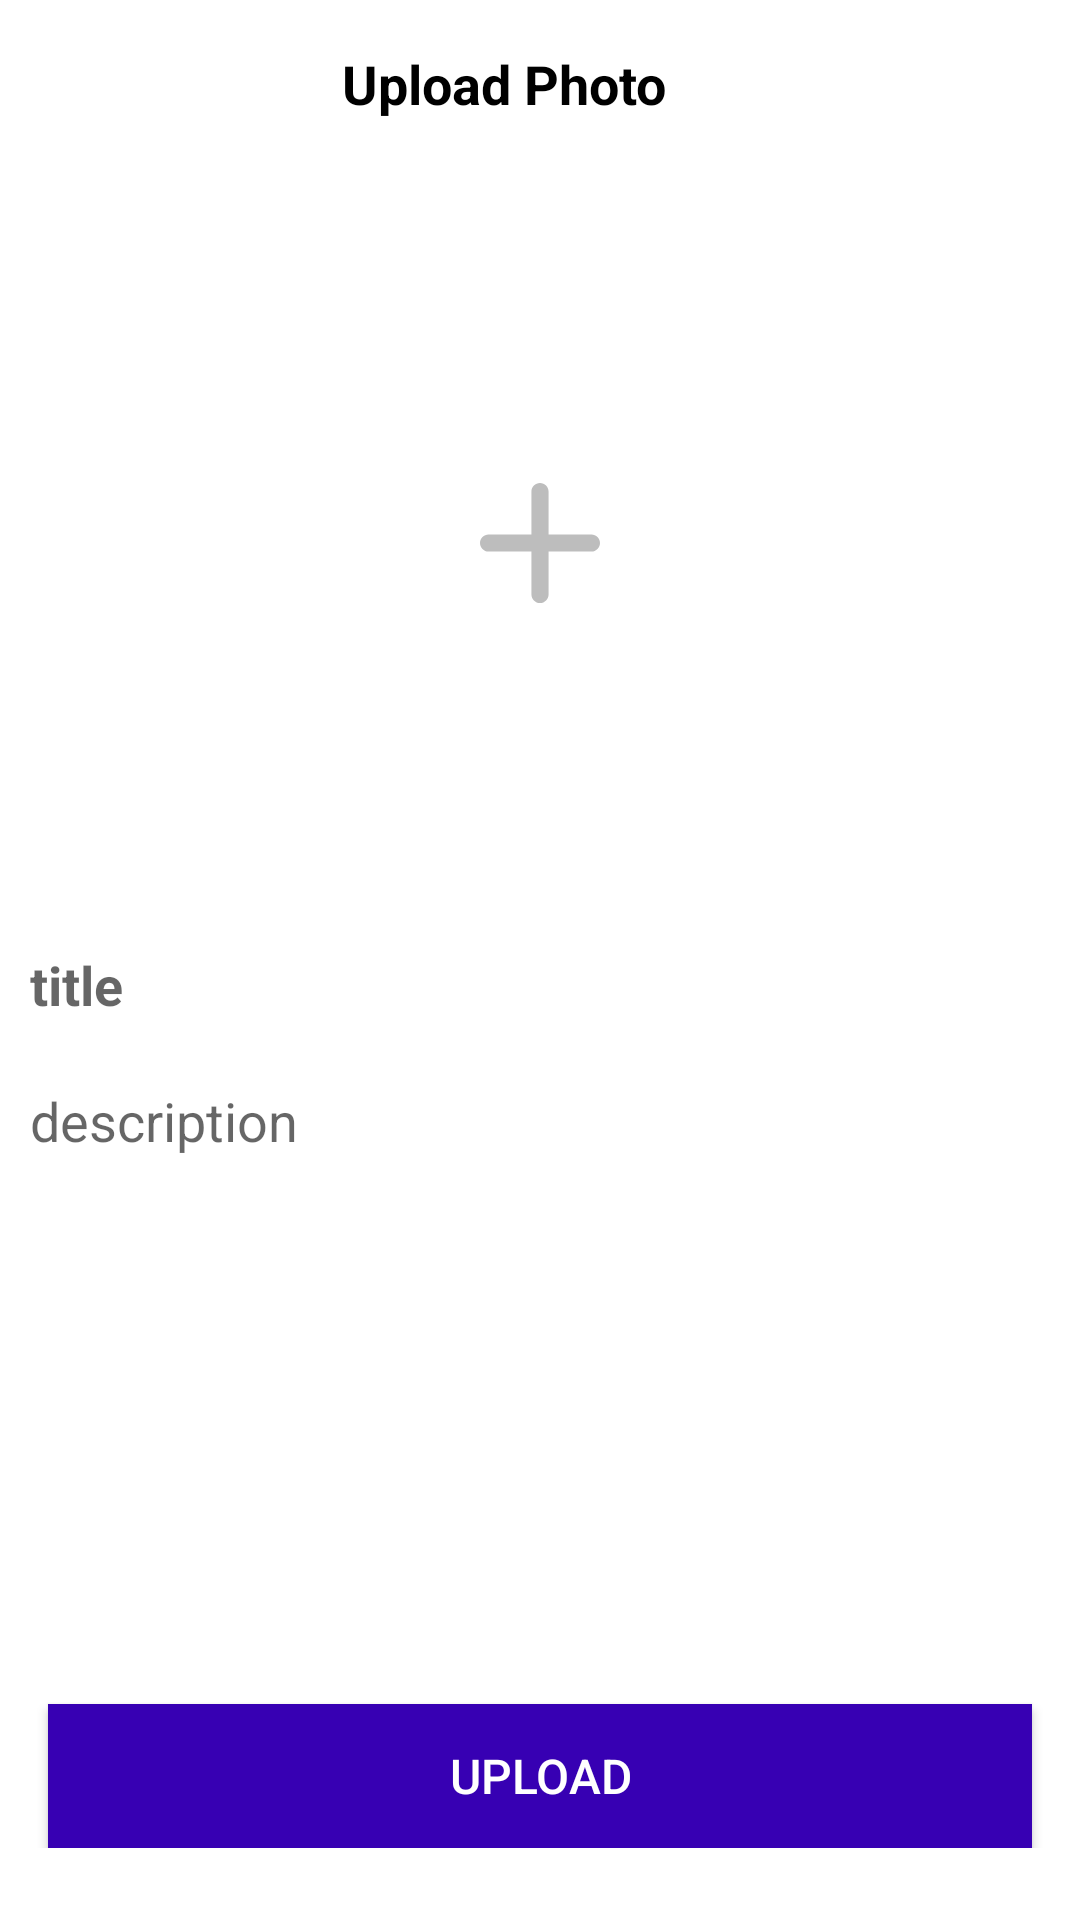

Named icons in this screenshot (1080px×1920px) and their bounding boxes, Rect(x1, y1, x2, y2):
plus: Rect(480, 483, 600, 603)
